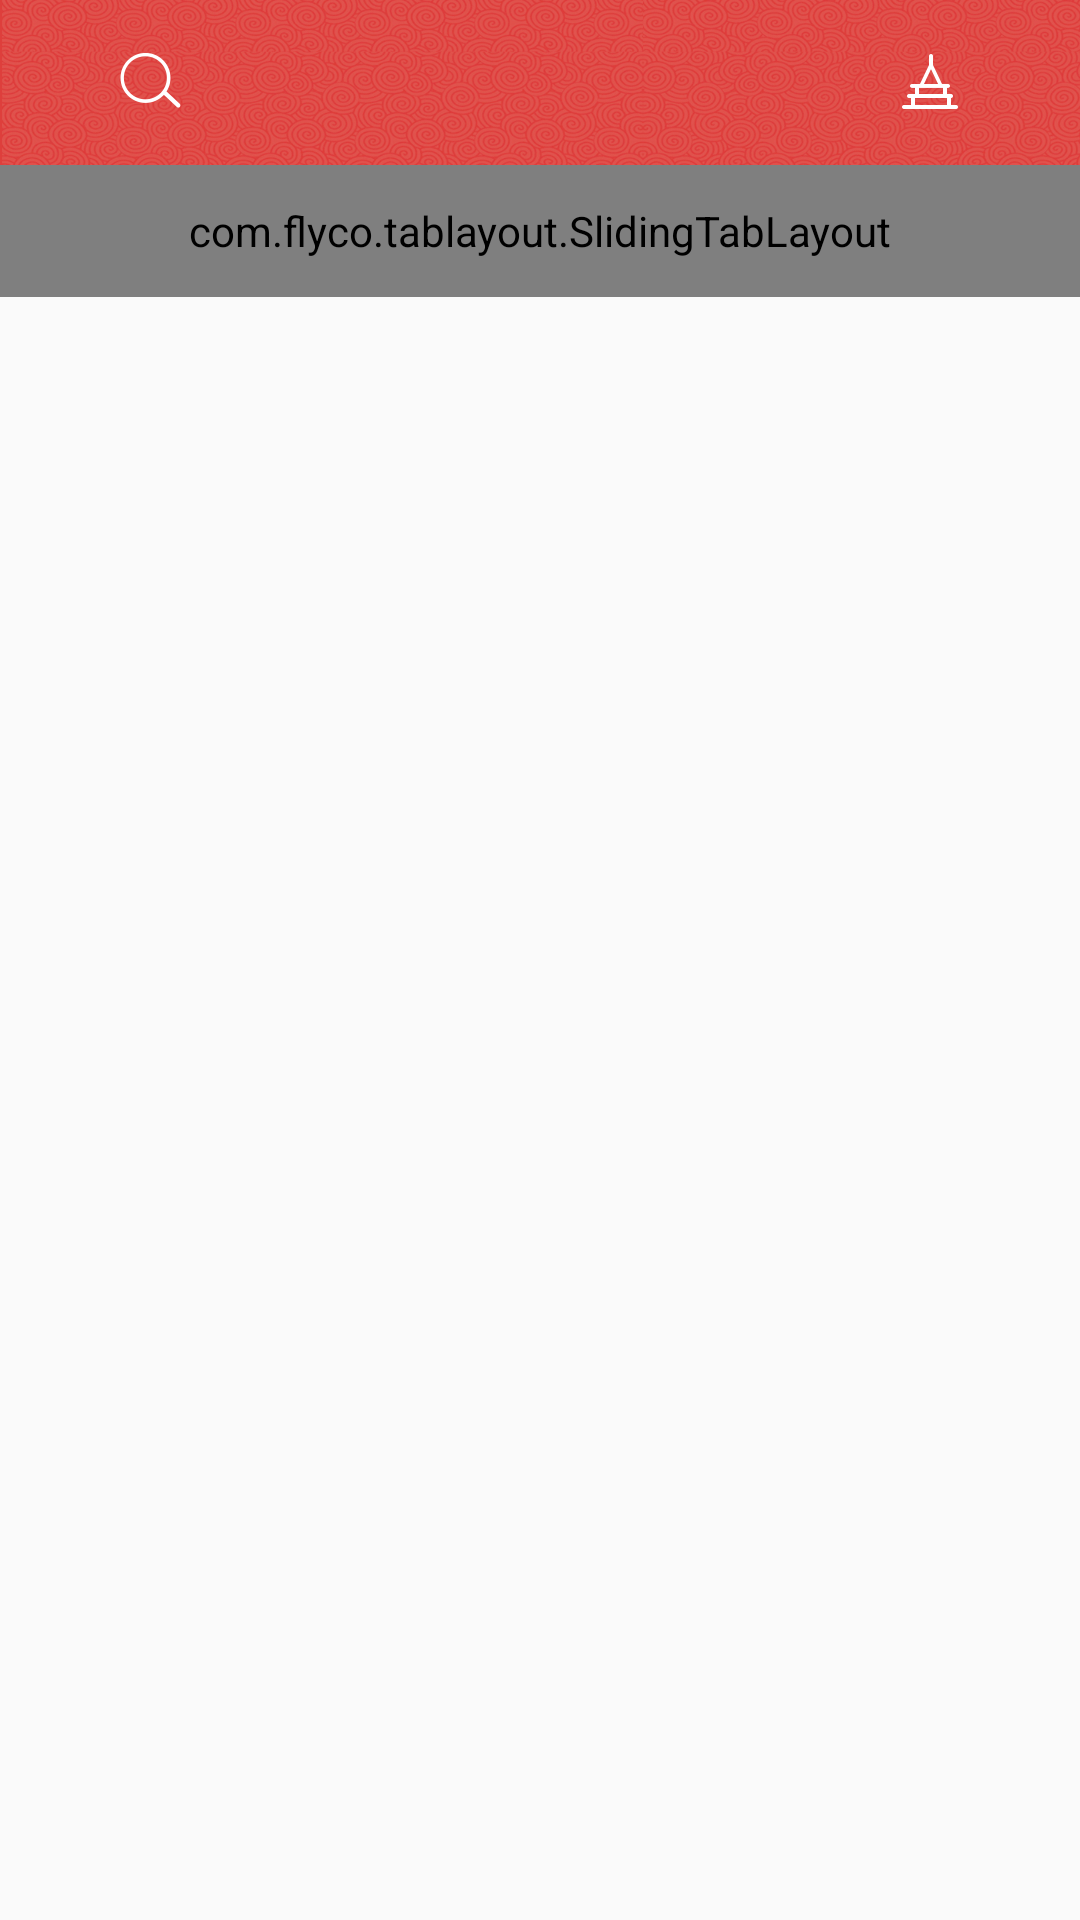

Point at icon controls on the screen. Image size 1080×1920, points as (x=x, y=y).
search: (x=150, y=80)
